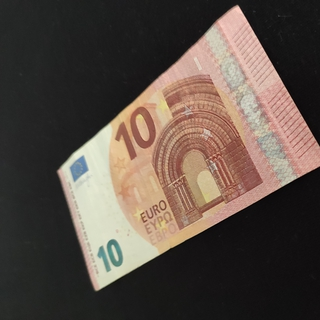10EUROFront: (56, 4, 320, 291)
